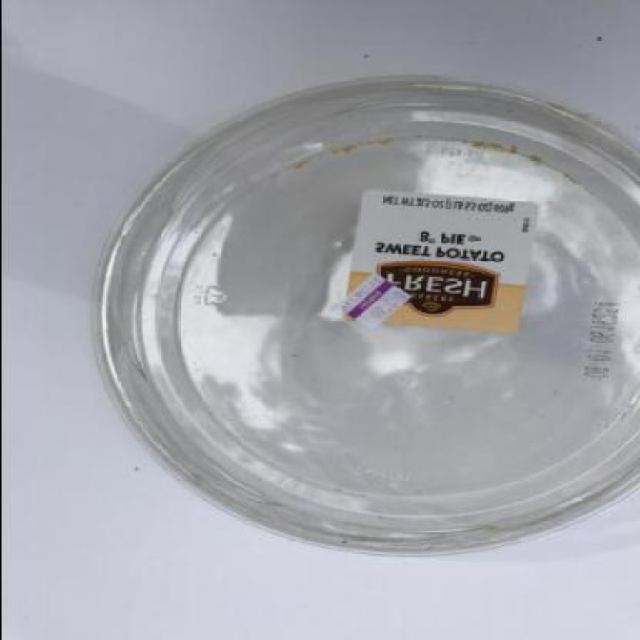PAPER: (342, 188, 540, 331), (335, 276, 405, 333)
PLASTIC: (101, 78, 640, 552)
